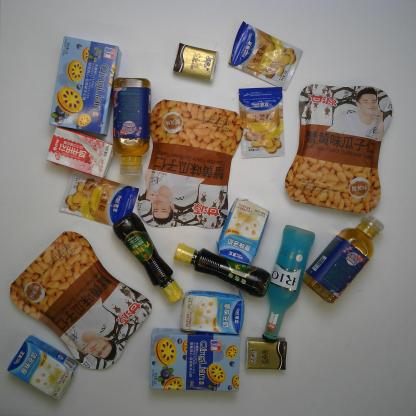Alcohol: (261, 223, 316, 342)
Dessert: (48, 36, 122, 137), (148, 326, 241, 394)
Dried Fruit: (9, 231, 152, 370), (284, 83, 393, 215), (136, 98, 245, 230)
Drink: (301, 212, 385, 304), (110, 77, 154, 176)
Milk: (5, 336, 79, 401), (45, 126, 114, 180), (216, 197, 269, 264), (179, 290, 247, 338)
Seasoner: (110, 212, 184, 304), (226, 21, 305, 92), (172, 244, 272, 297), (58, 169, 140, 229), (236, 86, 286, 160)
Tissue: (172, 42, 218, 82), (244, 335, 288, 371)
